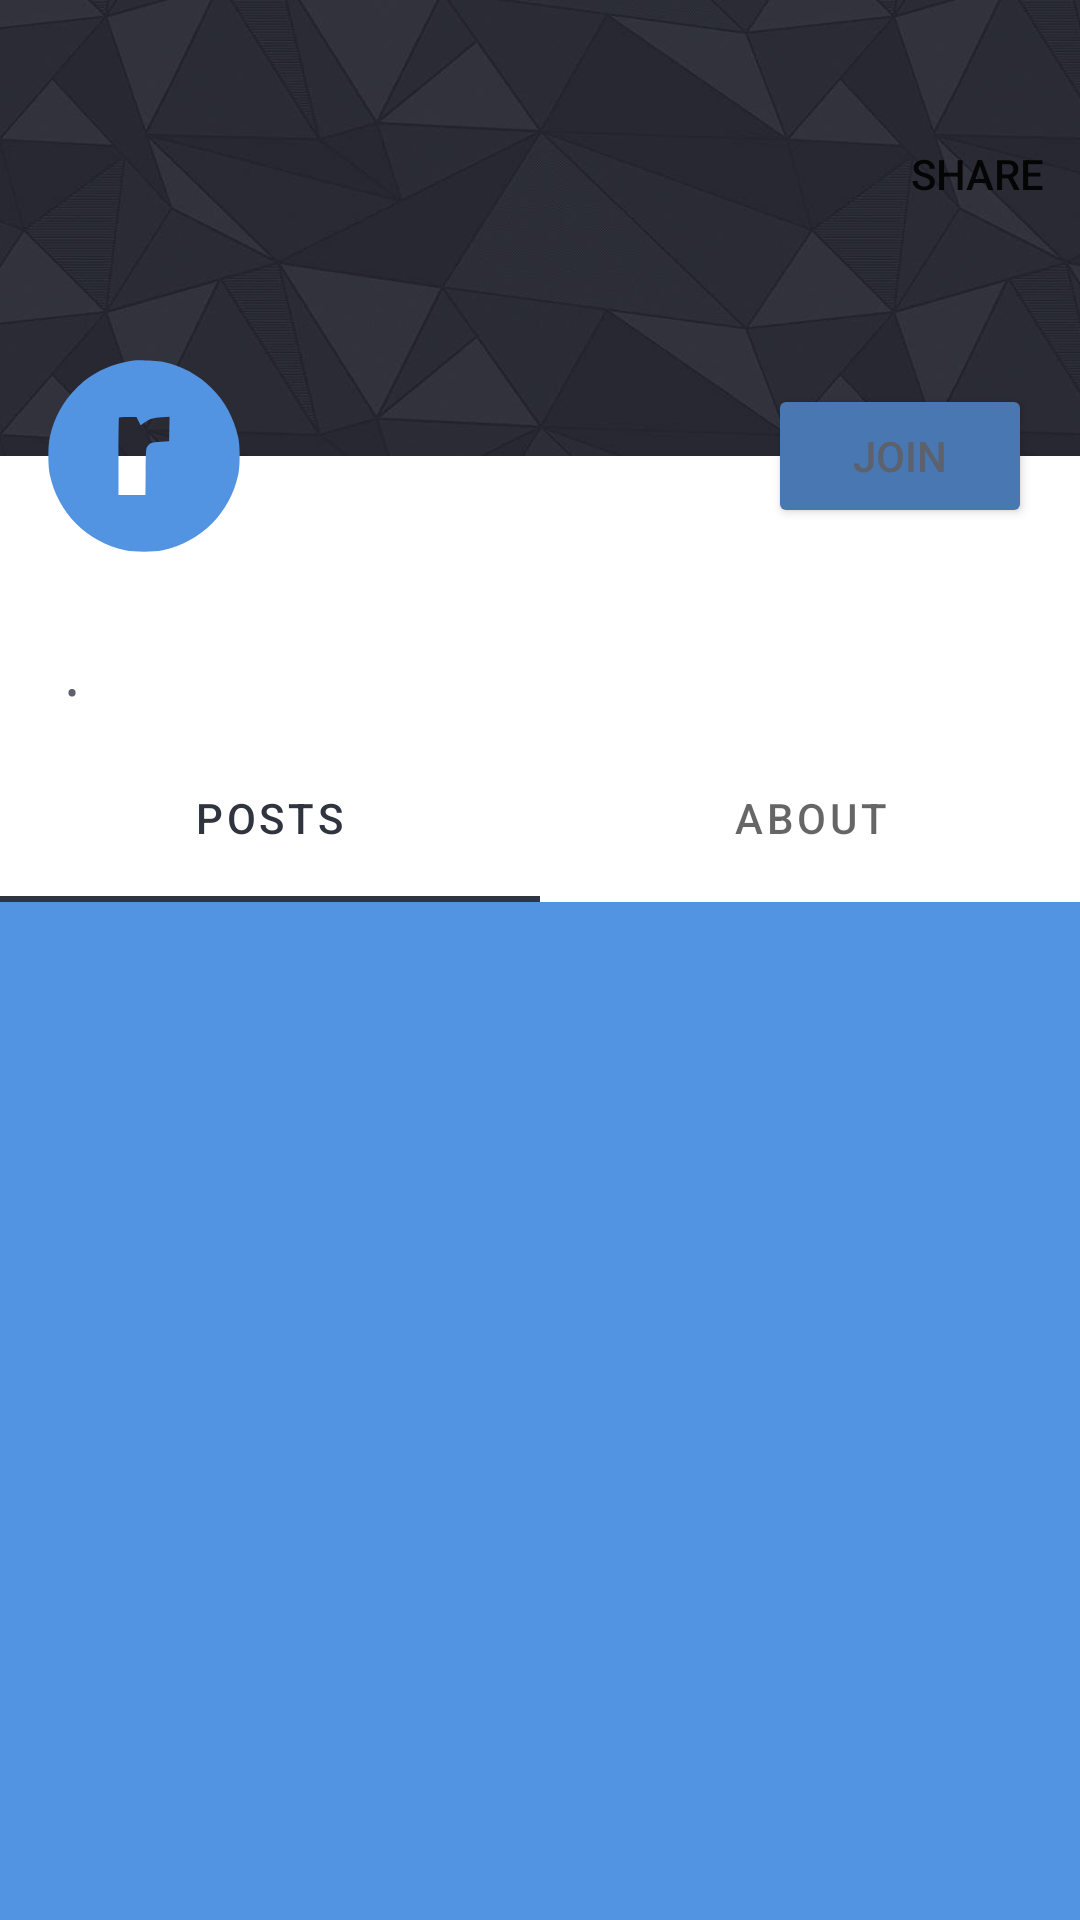

Icon click points for this 1080px x 1920px phone screenshot, format (x,y):
profile icon: (144,456)
